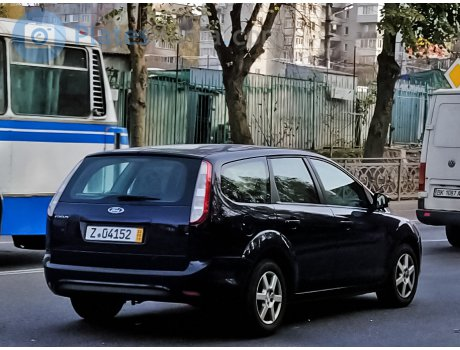License Plates: (86, 226, 134, 239)
